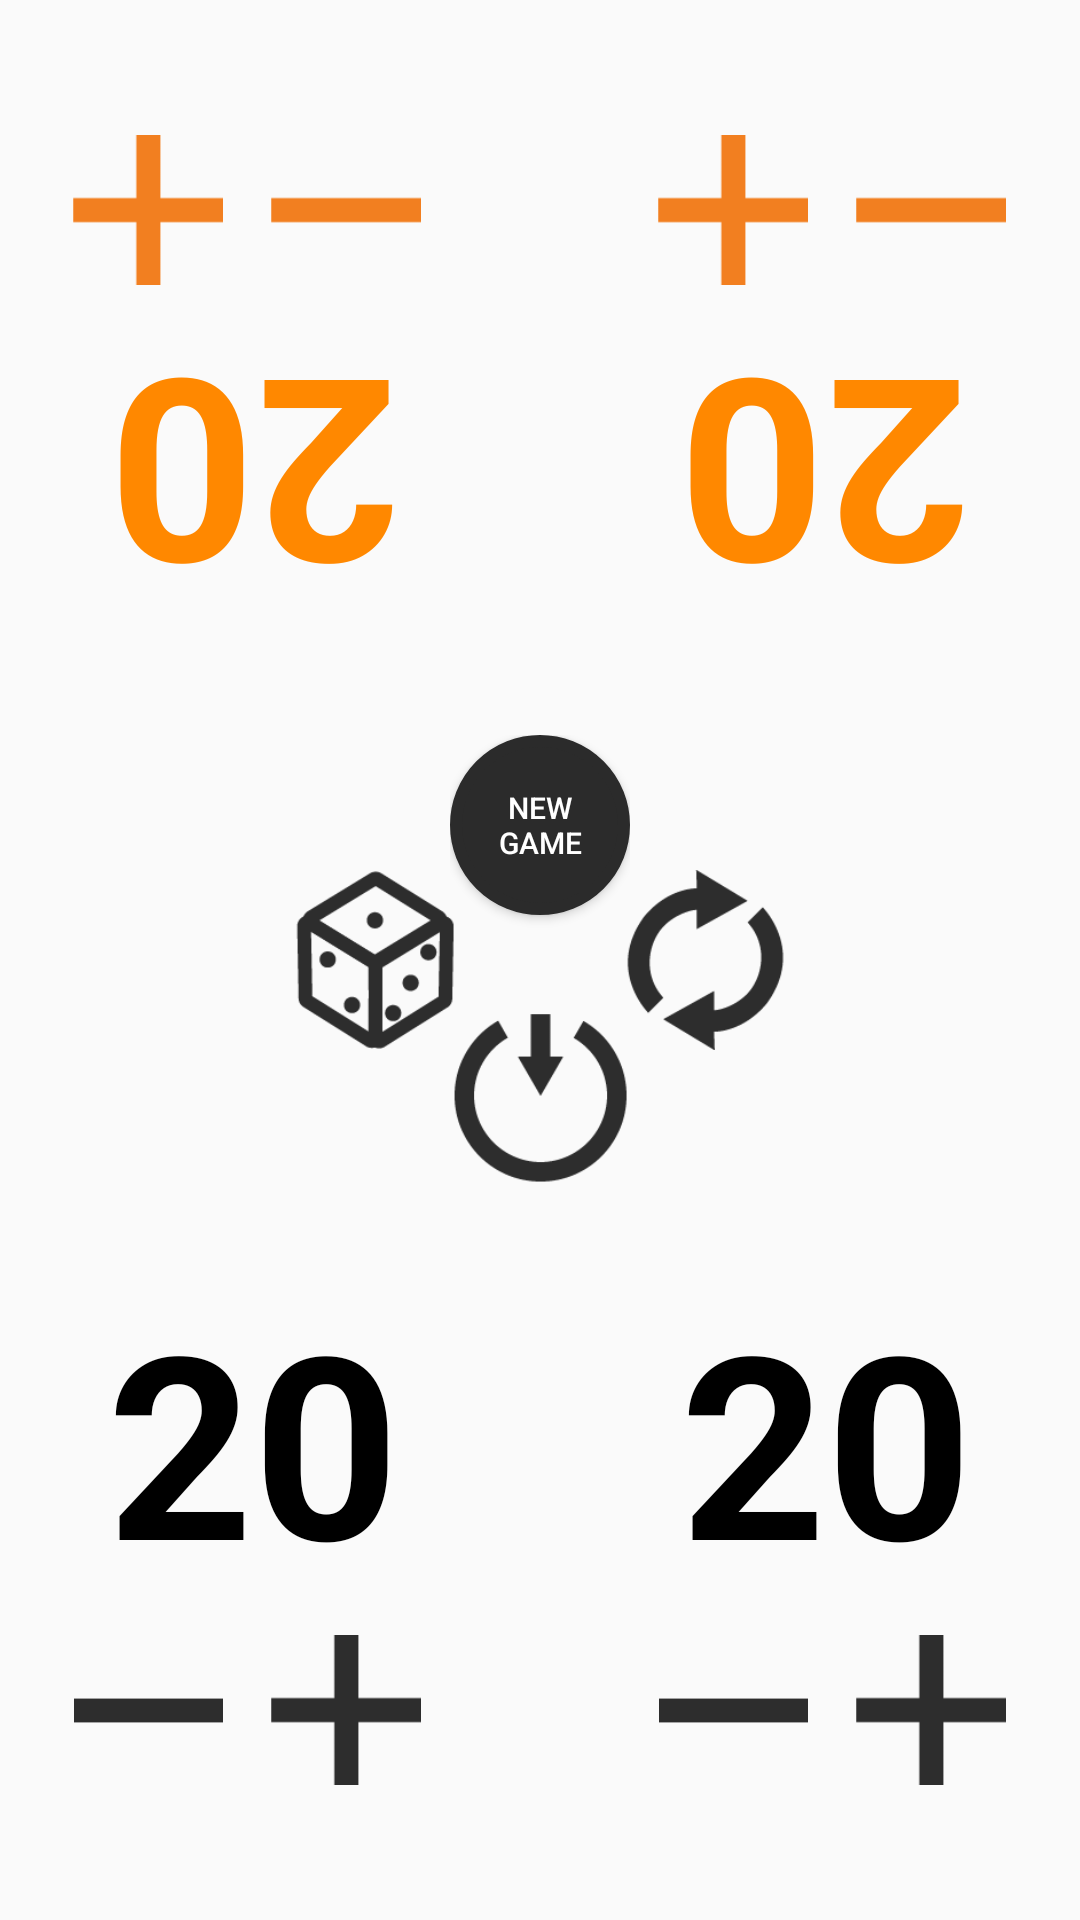

Named icons in this screenshot (1080x1920) and their centers, [x,y]:
greyminus: [148,1710], [733,1710]
greyplus: [346,1710], [931,1710]
orangeminus: [346,210], [931,210]
orangeplus: [148,210], [733,210]
renew: [705,960]
